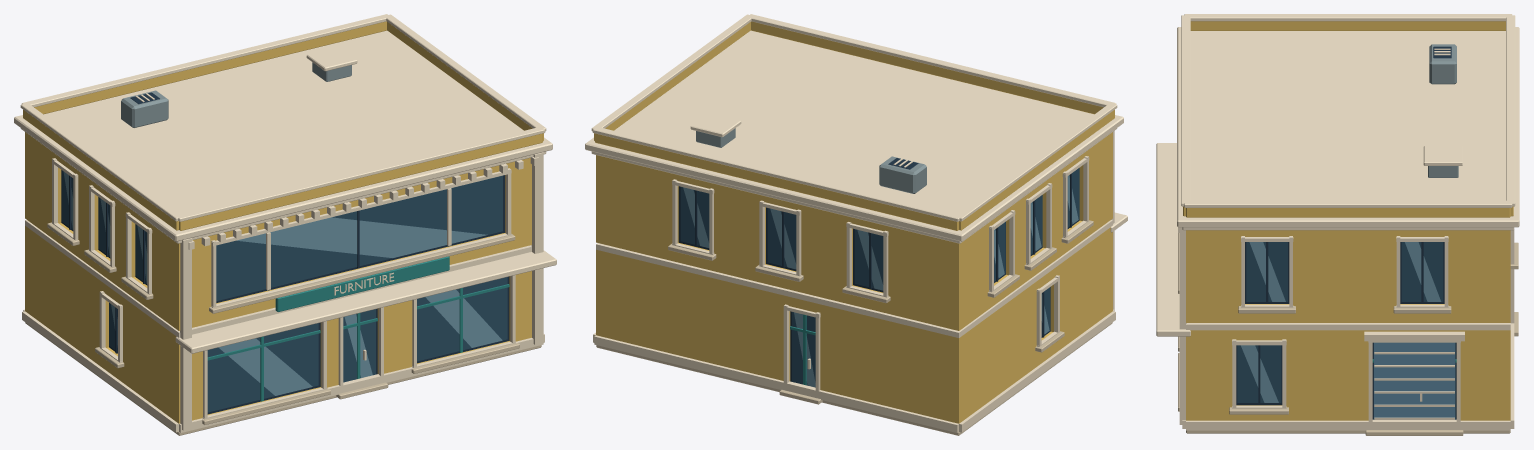
Rendered from furniture_shop.glb.
3 views of the same model, side by side, from view 1: azimuth 30°, elevation 25°; view 2: azimuth 150°, elevation 25°; view 3: azimuth 270°, elevation 25° (orthographic). The views are drawn at different scales.
Parts seen in each view (by area): view 1: FurnitureShop_StaticMesh; view 2: FurnitureShop_StaticMesh; view 3: FurnitureShop_StaticMesh.
Boxes of the visible parts, x1,y1,x2,y2 form: FurnitureShop_StaticMesh: [14, 14, 556, 435]; FurnitureShop_StaticMesh: [585, 14, 1127, 435]; FurnitureShop_StaticMesh: [1156, 14, 1519, 435].
Bounding box in the file's own units: 13.32 × 7.7 × 10.52.
